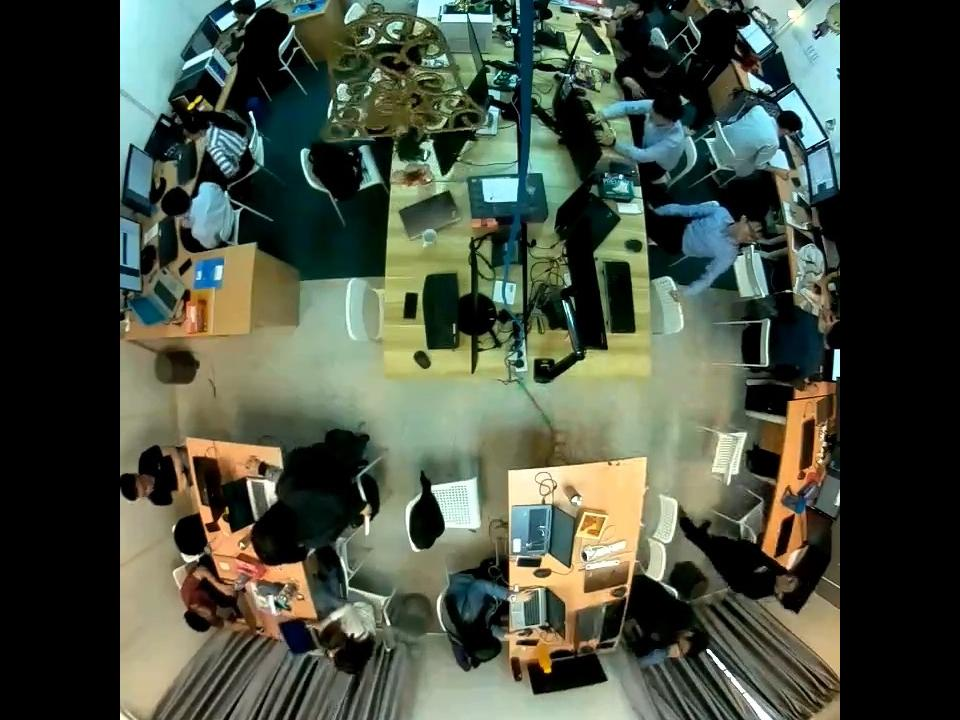name-tag: (751, 562, 769, 574)
